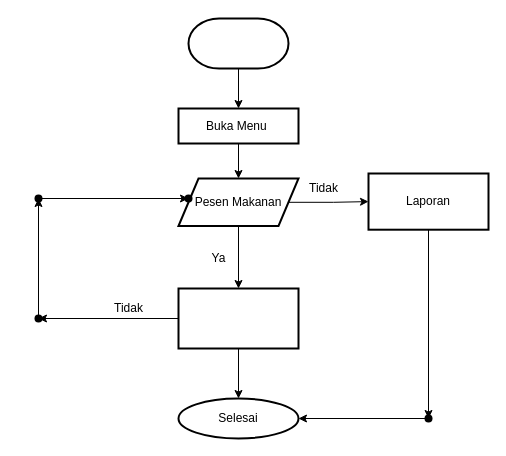
Image size: 506x456. Some labels were removed from this diagram. Here are the shapes that lost their labels. From the top down, the centre of each, then its label:
At [238,43]: "Mulai".
At [238,318]: "Transkasi".
